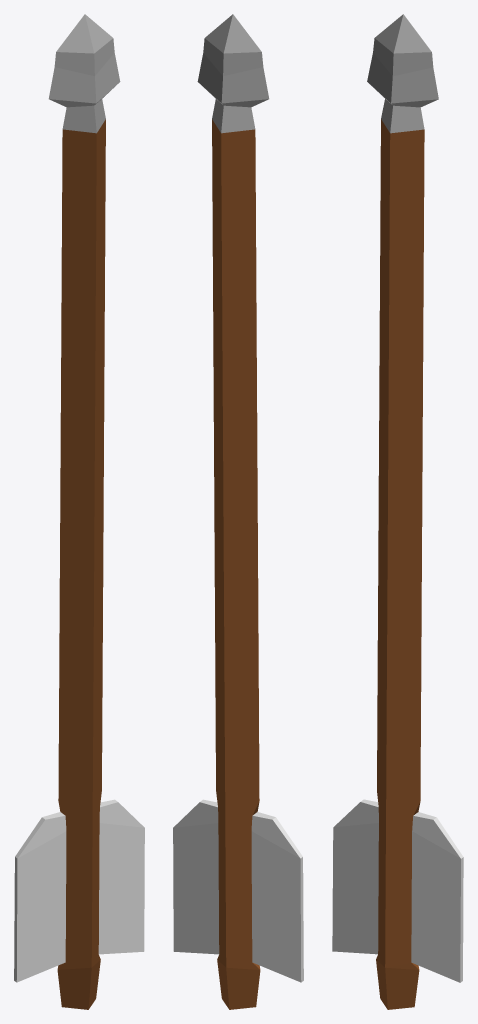
File: virote.glb
3 renders of one model, left to right at view 1: azimuth 30°, elevation 25°; view 2: azimuth 150°, elevation 25°; view 3: azimuth 330°, elevation 25°, orthographic.
Parts seen in each view (by area): view 1: Bullet Arrow; view 2: Bullet Arrow; view 3: Bullet Arrow.
Part boxes in pixels (left/top/right/bottom): Bullet Arrow: left=14, top=14, right=144, bottom=1009; Bullet Arrow: left=173, top=14, right=303, bottom=1009; Bullet Arrow: left=332, top=14, right=463, bottom=1009.
Bounding box in the file's own units: 0.0611 × 0.45 × 0.0207.
